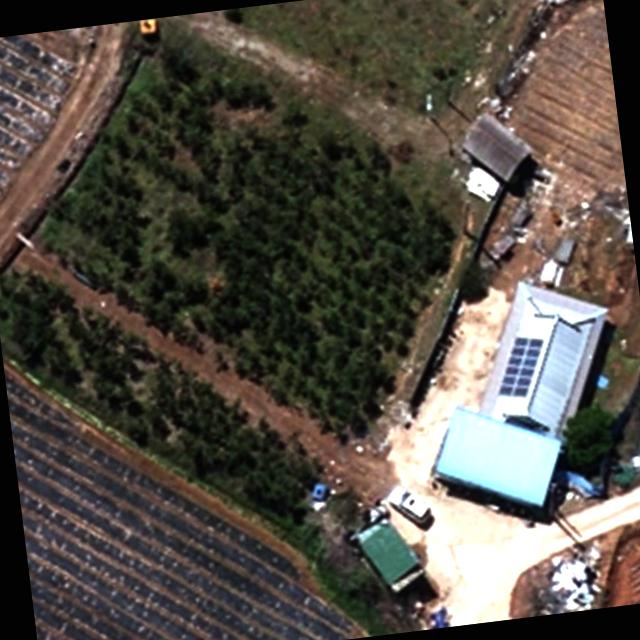solar: (489, 328, 552, 405)
